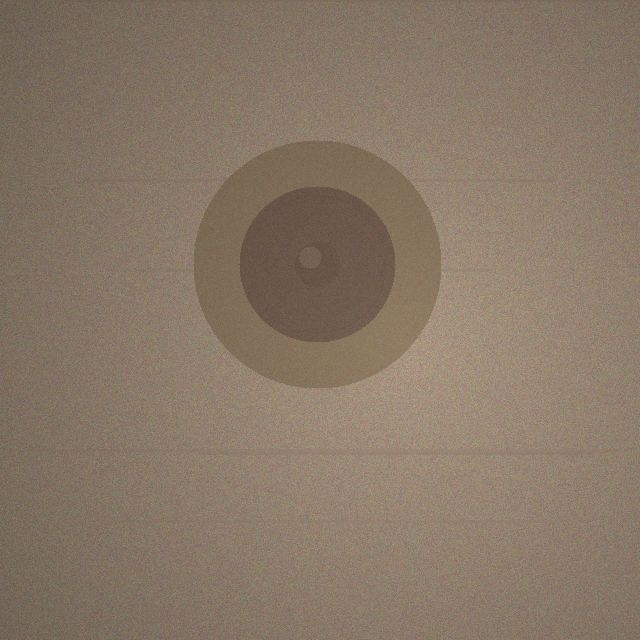good: (193, 140, 441, 388)
